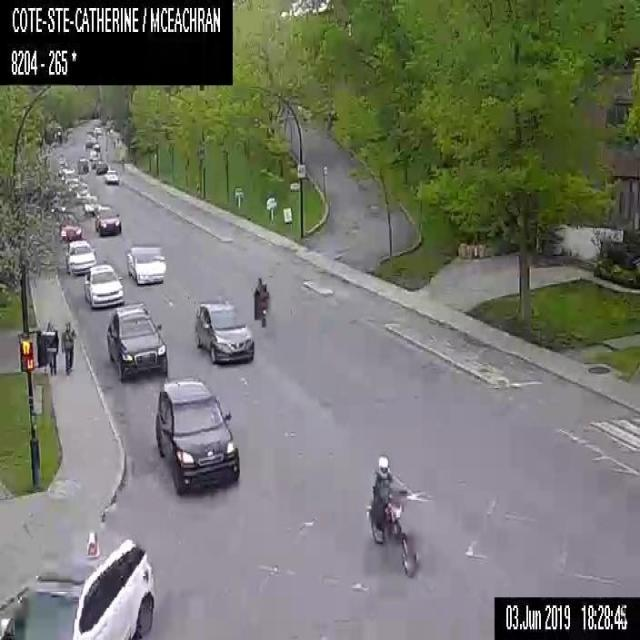pedestrian: (60, 319, 76, 373), (45, 320, 59, 374)
vehicle: (0, 530, 155, 638), (154, 375, 238, 495), (366, 452, 417, 579), (106, 302, 167, 381), (194, 298, 254, 364), (125, 243, 167, 284), (83, 263, 123, 306), (65, 239, 96, 276), (251, 275, 269, 324), (94, 204, 120, 234), (59, 219, 82, 240), (72, 181, 90, 203), (84, 193, 102, 213), (60, 169, 78, 187), (105, 169, 119, 182), (76, 156, 88, 171), (96, 160, 108, 174), (85, 136, 97, 147), (86, 129, 98, 139), (92, 143, 100, 156), (94, 124, 102, 134)
